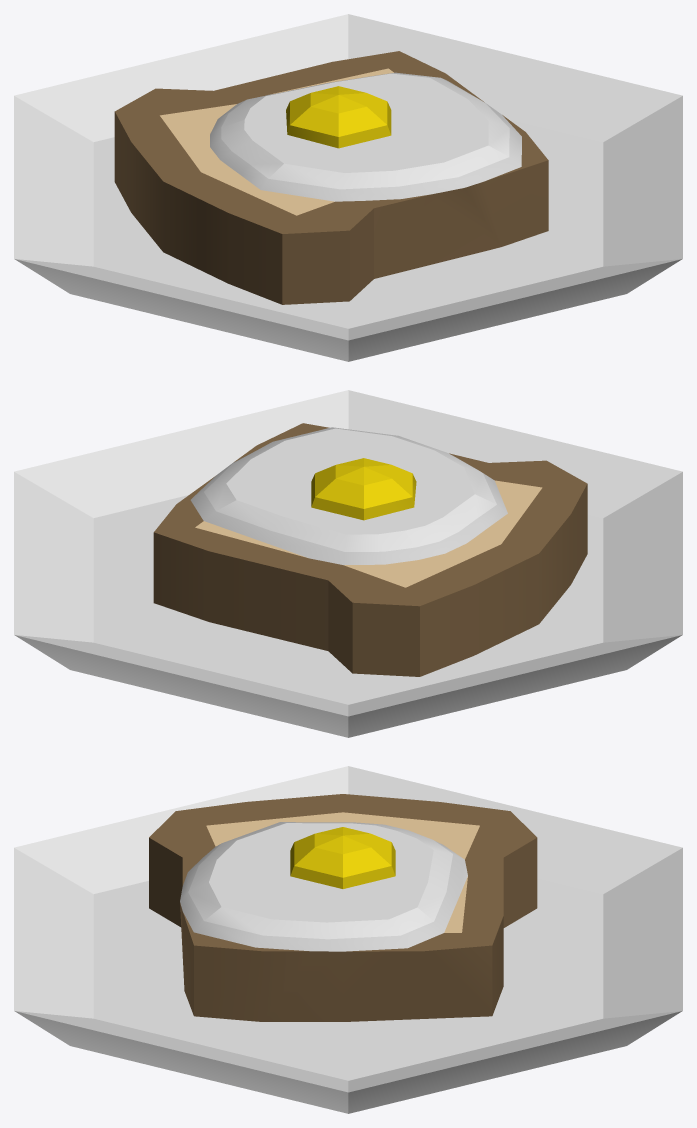
Rendered from toast_plate.fbx.
3 renders of one model, top to bottom at view 1: azimuth 30°, elevation 25°; view 2: azimuth 150°, elevation 25°; view 3: azimuth 270°, elevation 25°, orthographic.
Visible parts, largest first — view 1: toast_on_plate2; view 2: toast_on_plate2; view 3: toast_on_plate2.
Boxes of the visible parts, x1,y1,x2,y2 form: toast_on_plate2: [14, 14, 682, 361]; toast_on_plate2: [14, 390, 682, 737]; toast_on_plate2: [14, 766, 682, 1113].
Bounding box in the file's own units: 0.6148 × 0.1506 × 0.5324.
